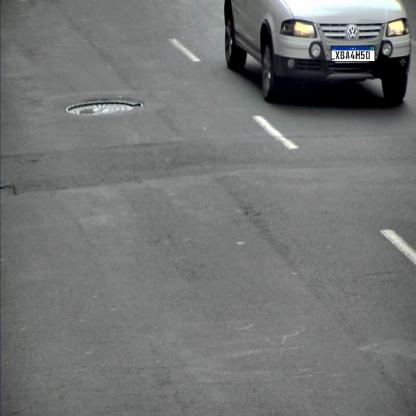PlacaM: (331, 45, 375, 61)
